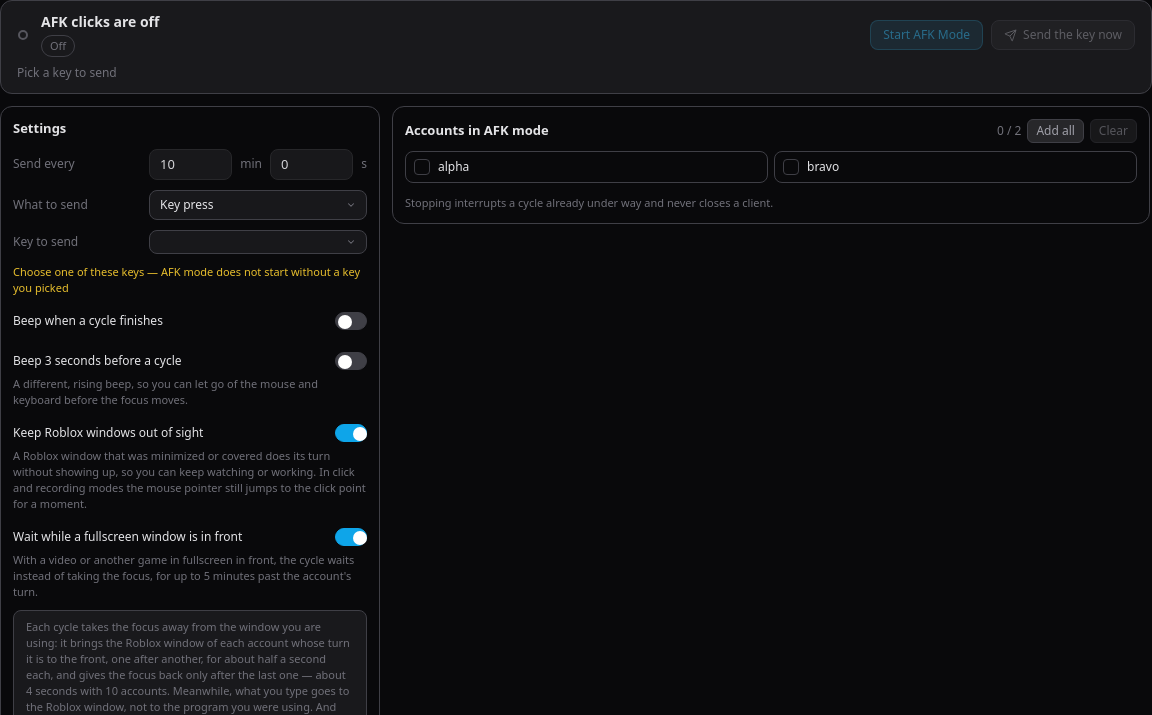
Test case: ClicksTab — só as teclas da lista › oferece exatamente as teclas que o backend entregou
Click the button named "Key to send": (258, 242) [149, 230, 367, 254]
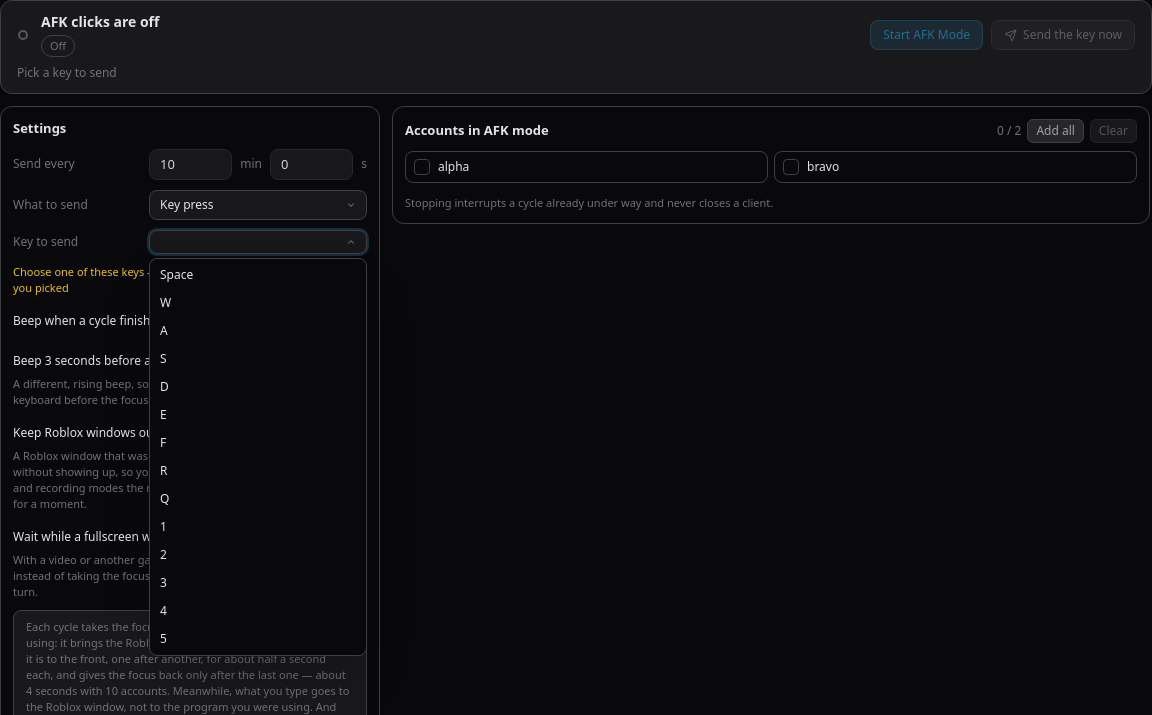
Result: the button "Space" is shown at [150, 261, 366, 289]
Result: the button "W" is shown at [150, 289, 366, 317]
Result: the button "A" is shown at [150, 317, 366, 345]
